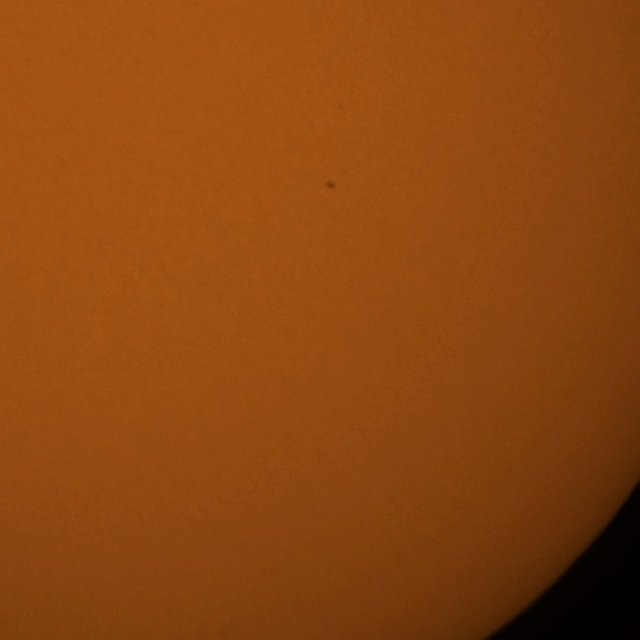sunspot: (324, 179, 337, 191)
